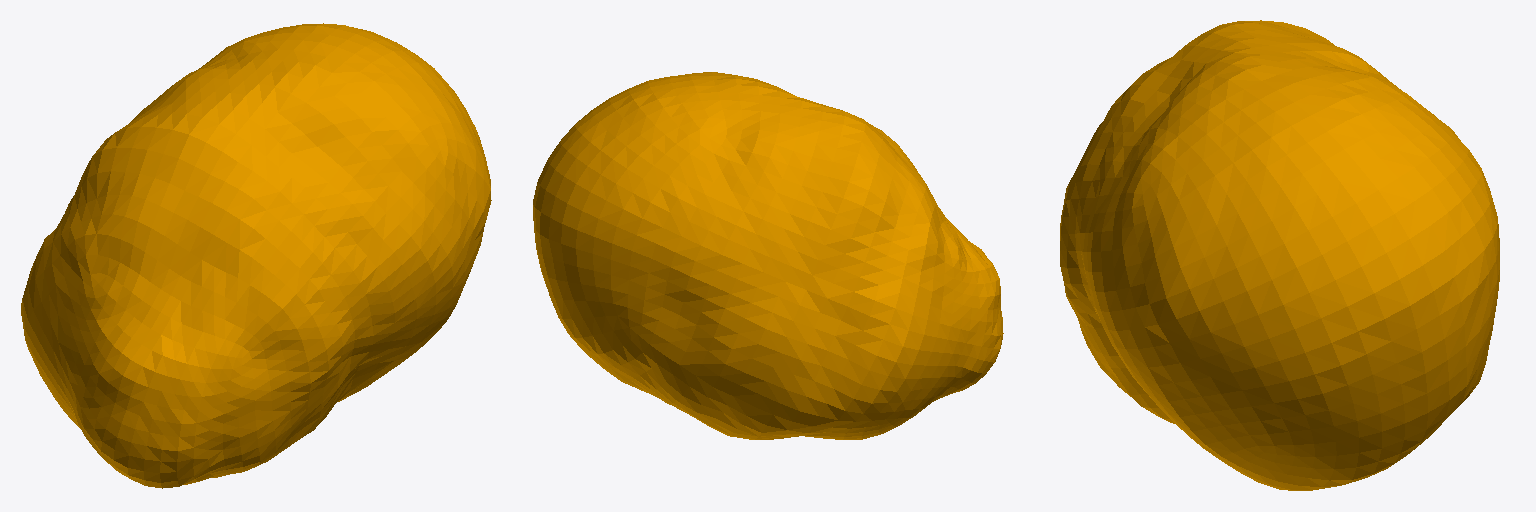
robot.urdf — rock:
<?xml version="1.0" ?>
<robot name="rock">
  <link name="rock">
    <inertial>
      <mass value="0.284"/>
      <origin rpy="0 0 0" xyz="0 0 0"/>
      <inertia ixx="0.000284" ixy="0" ixz="0" iyy="0.000284" iyz="0" izz="0.000284"/>
    </inertial>
    <collision name="rock_collision">
      <origin rpy="0 0 0" xyz="0 0 0"/>
      <geometry>
        <mesh filename="package://rocks/visual/65.dae" scale="1 1 1"/>
      </geometry>
    </collision>
    <visual name="rock_visual">
      <origin rpy="0 0 0" xyz="0 0 0"/>
      <geometry>
        <mesh filename="package://rocks/visual/65.dae" scale="1 1 1"/>
      </geometry>
    </visual>
  </link>
</robot>

--- Render facts (derived) ---
3 views of the same robot in one strip: view 1: azimuth 30°, elevation 25°; view 2: azimuth 150°, elevation 25°; view 3: azimuth 270°, elevation 25° (orthographic).
Robot: rock — 1 links, 0 joints (none); root link rock; default pose: all joints at 0.
Links seen in each view (by area): view 1: rock; view 2: rock; view 3: rock.
Link boxes in pixels (bbox=[...]): rock: bbox=[21, 23, 491, 488]; rock: bbox=[533, 72, 1003, 439]; rock: bbox=[1060, 20, 1499, 490].
Bounding box of the posed robot: 0.0756 × 0.0577 × 0.0605 m (x, y, z).
Meshes: 1 distinct files referenced, 1 mesh visuals loaded (1 Collada DAE).